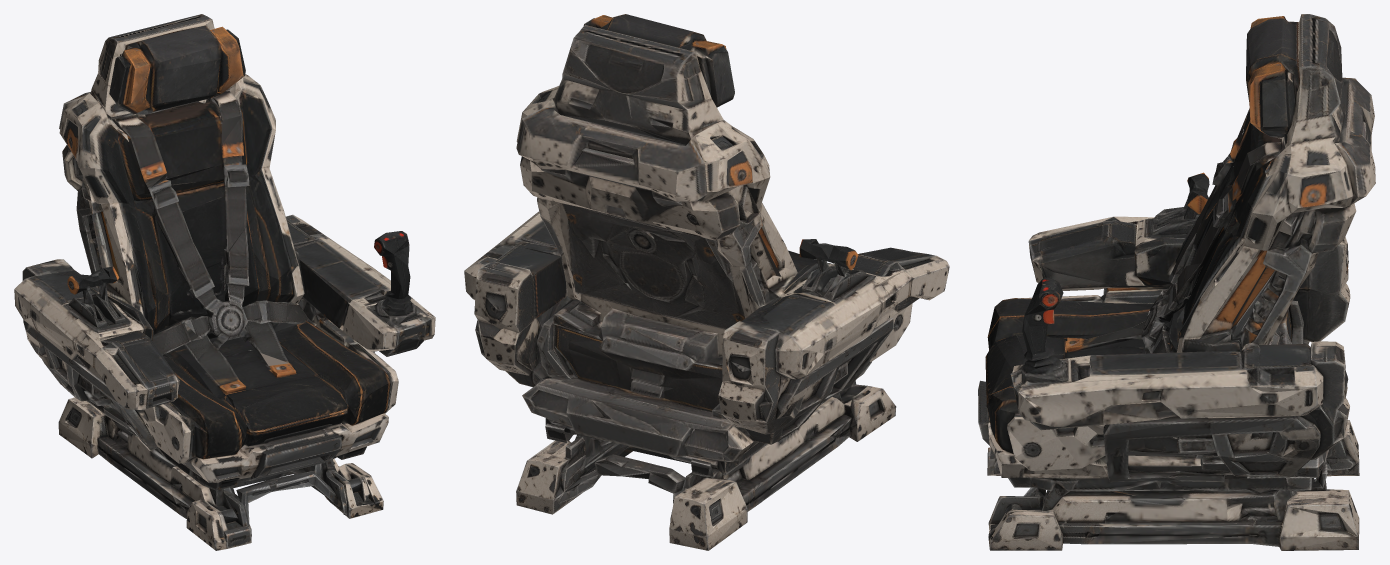
3 views of the same model, side by side, from view 1: azimuth 30°, elevation 25°; view 2: azimuth 150°, elevation 25°; view 3: azimuth 270°, elevation 25° (orthographic). The views are drawn at different scales.
Parts seen in each view (by area): view 1: Mesh_0; view 2: Mesh_0; view 3: Mesh_0.
Part boxes in pixels (x1,y1,x2,y2): Mesh_0: (14, 14, 435, 550); Mesh_0: (464, 14, 949, 550); Mesh_0: (978, 14, 1375, 550).
Size of the model in its own units: 1.48 by 1.9 by 1.46.
1 material, 1 textured.
